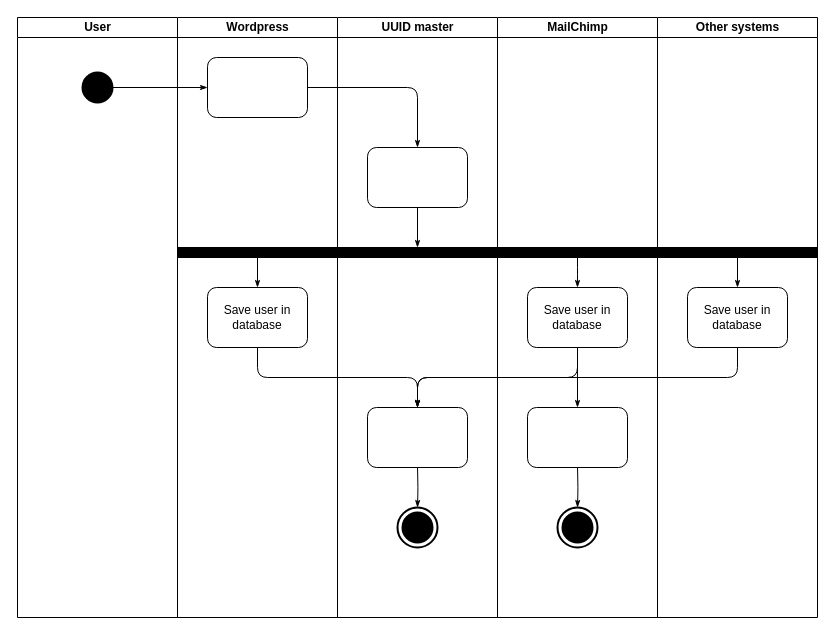
Image size: 835x635. Some labels were removed from this diagram. The shapes that lost their labels are listed below. From the top down, each one's centre as x and y in pixels, then its label:
point 257,87: Register
point 417,177: Create UUID for user
point 417,437: Insert system's ID for UUID
point 577,437: Send verification mail
